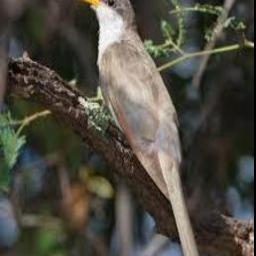Cuckoo: (72, 0, 207, 256)
